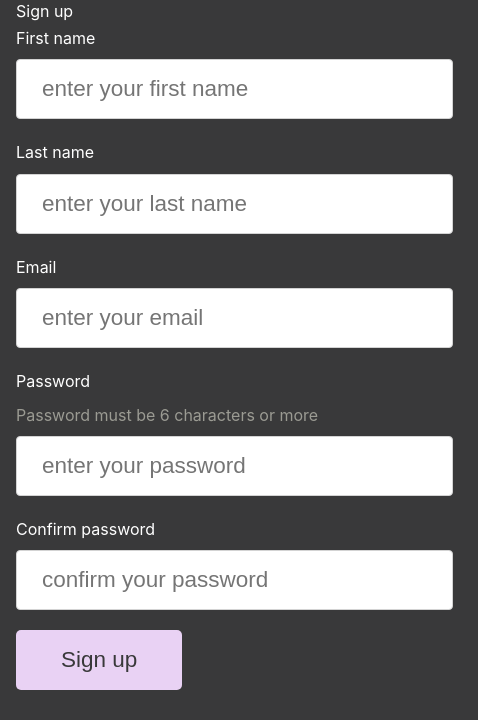
Test: sign up component › displays an error when attempting sign in with no username/password input
(page scrolled)
Click the button "Sign up": (99, 660) [16,630,182,690]
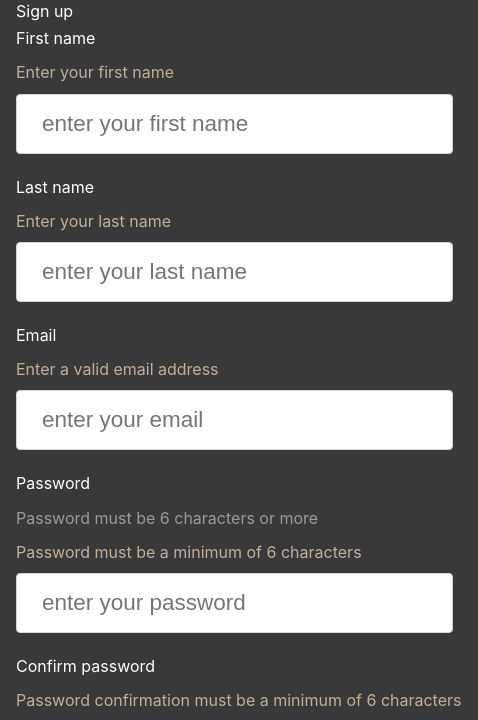
Check: the text "Enter a valid email address" is shown, box [16,359,219,379]
Check: the text "Password must be a minimum of 6 characters" is shown, box [16,542,362,562]
Check: the text "Password confirmation must be a minimum of 6 characters" is shown, box [16,690,462,710]
